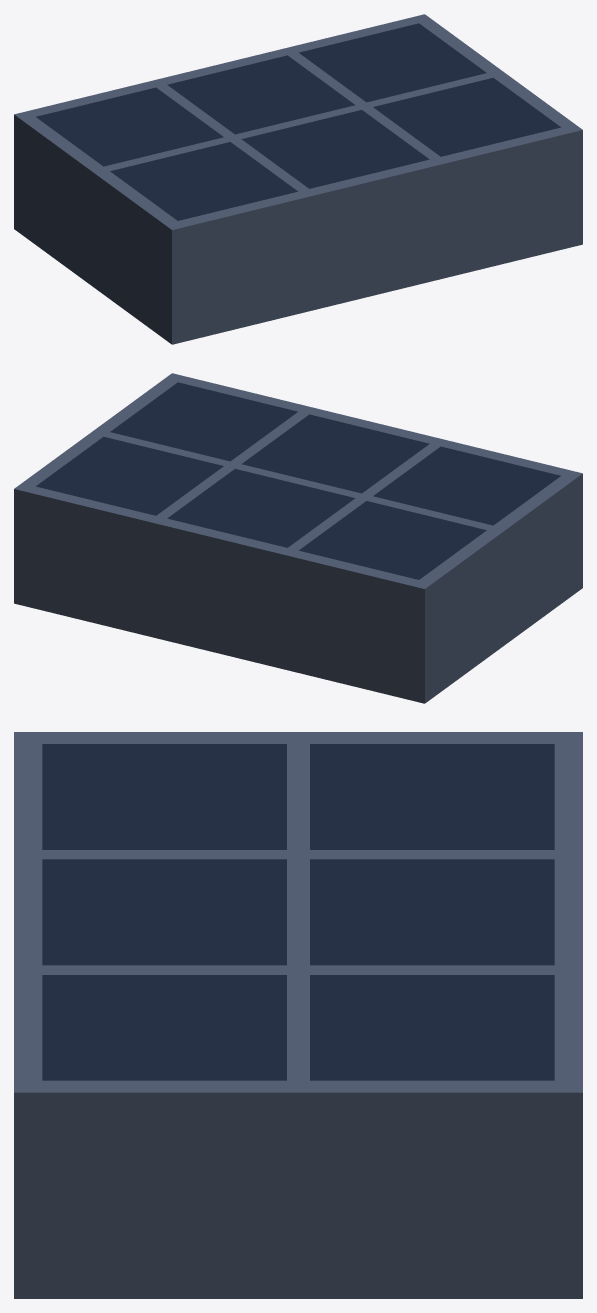
The model's file is roof_skylight.glb.
3 renders of one model, top to bottom at view 1: azimuth 30°, elevation 25°; view 2: azimuth 150°, elevation 25°; view 3: azimuth 270°, elevation 25°, orthographic. The views are drawn at different scales.
Visible parts, largest first — view 1: walk_slab; view 2: walk_slab; view 3: walk_slab.
Part boxes in pixels (x1,y1,x2,y2): walk_slab: [14, 14, 582, 344]; walk_slab: [14, 373, 582, 703]; walk_slab: [14, 732, 582, 1298].
Size of the model in its own units: 3 by 0.8 by 2.
